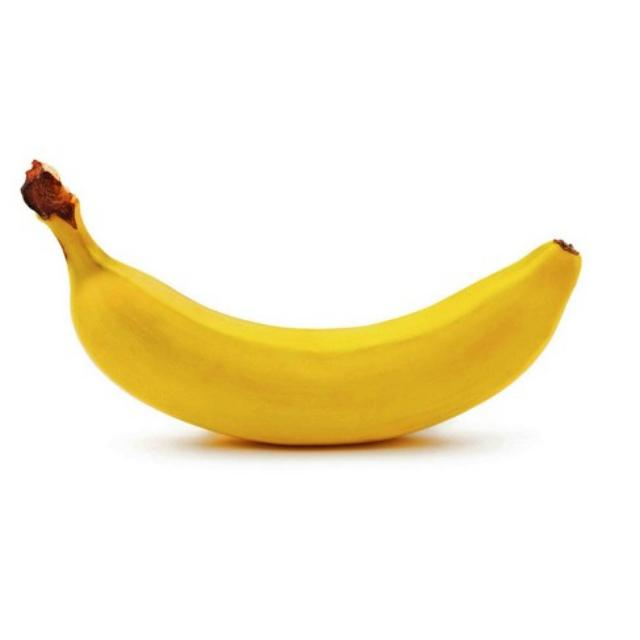Bananas: (20, 160, 578, 448)
